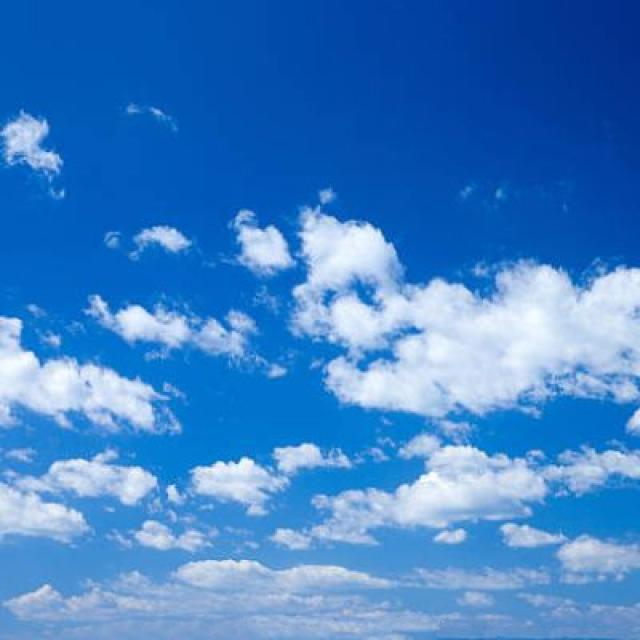Cu: (1, 121, 640, 602)
